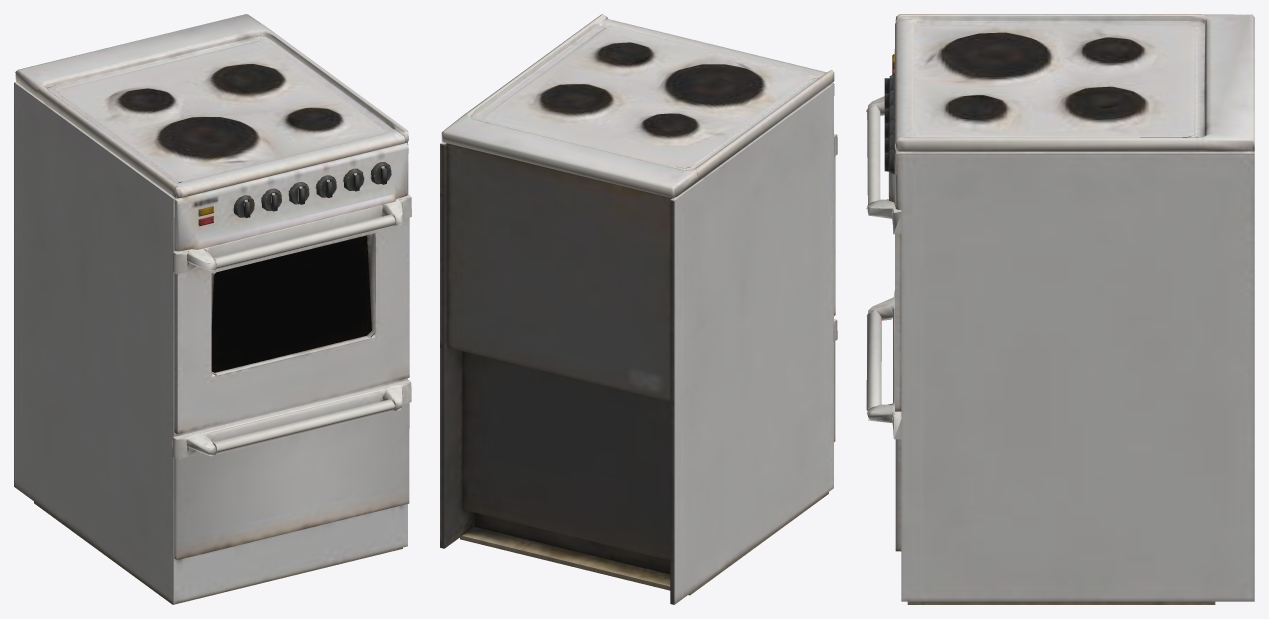
File: stove.glb
The picture shows the model from 3 angles, left to right: view 1: azimuth 30°, elevation 25°; view 2: azimuth 150°, elevation 25°; view 3: azimuth 270°, elevation 25°; orthographic projection. The views are drawn at different scales.
Parts seen in each view (by area): view 1: electric_stove, electric_stove.001; view 2: electric_stove; view 3: electric_stove, electric_stove.001.
Part boxes in pixels (<box>): electric_stove: <box>14,14,411,604</box>; electric_stove.001: <box>173,194,411,434</box>; electric_stove: <box>440,14,837,604</box>; electric_stove: <box>866,14,1254,604</box>; electric_stove.001: <box>866,96,901,411</box>.
Bounding box in the file's own units: 0.5026 × 0.8586 × 0.6476.
2 materials, 2 textured.
